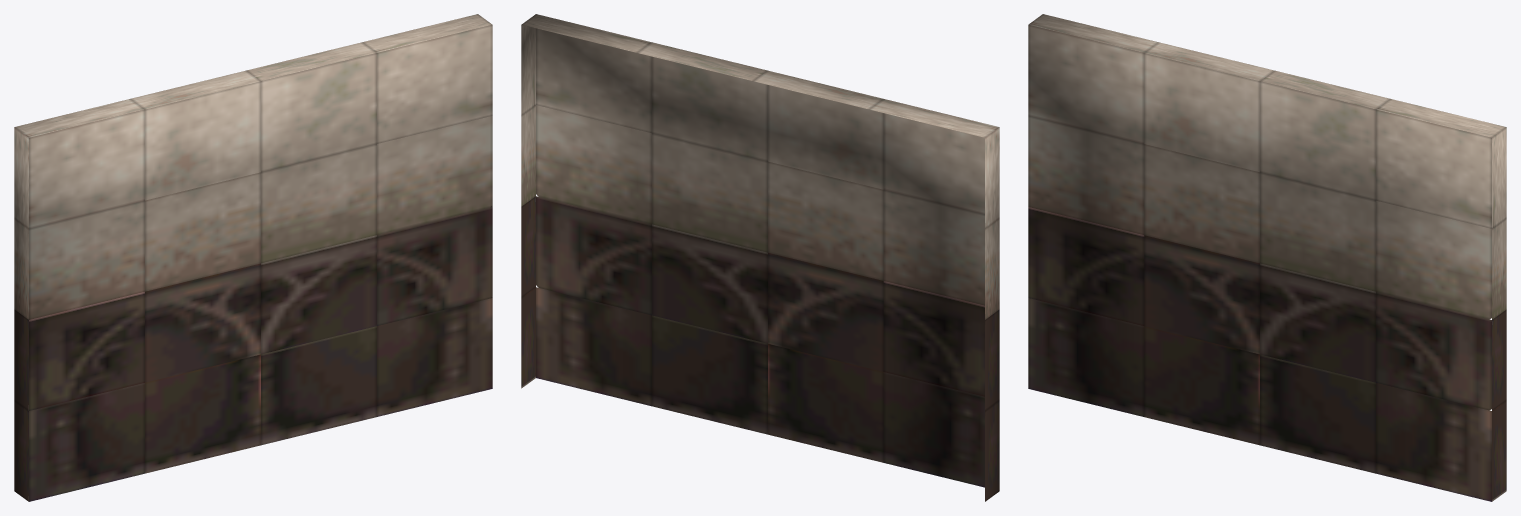
3 renders of one model, left to right at view 1: azimuth 30°, elevation 25°; view 2: azimuth 150°, elevation 25°; view 3: azimuth 330°, elevation 25°, orthographic.
Parts seen in each view (by area): view 1: T1L4M005_23; view 2: T1L4M005_23; view 3: T1L4M005_23.
Part boxes in pixels (x1,y1,x2,y2): T1L4M005_23: (14,14,492,501); T1L4M005_23: (521,14,999,501); T1L4M005_23: (1028,14,1506,501).
Size of the model in its own units: 4 by 3 by 0.2197.
1 material, 1 textured.
